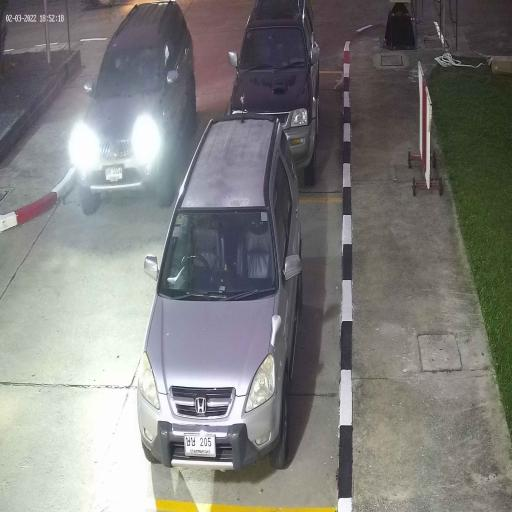car: (138, 117, 302, 466), (78, 0, 196, 215), (230, 0, 320, 183)
